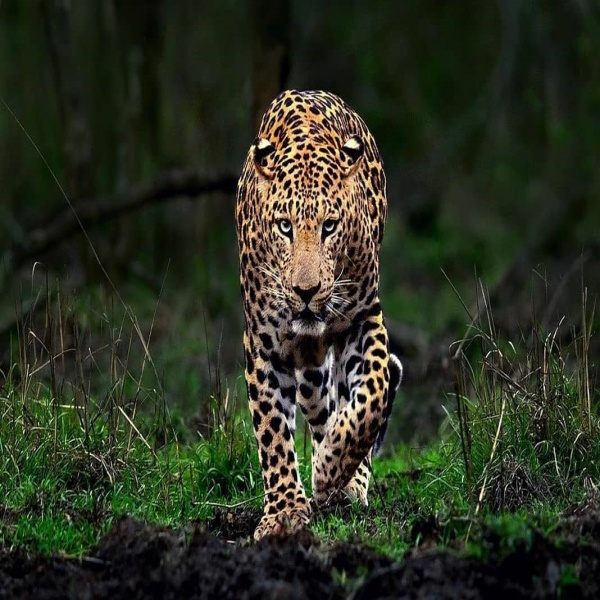Leopard: (233, 84, 406, 546)
